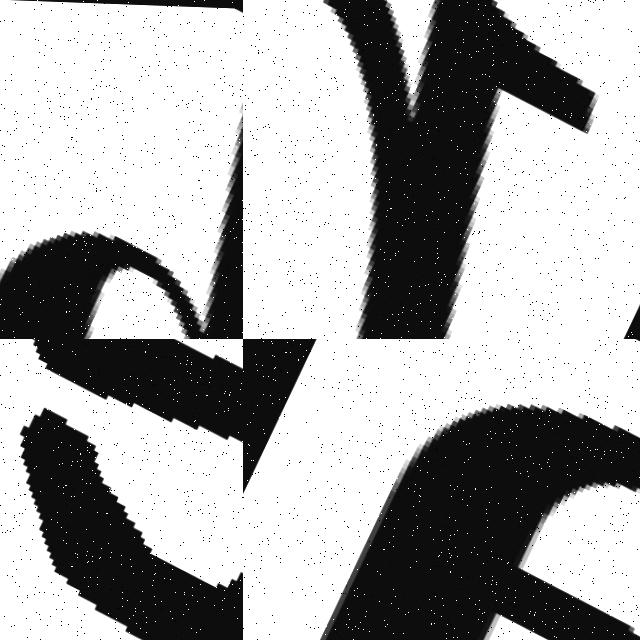A: (243, 339, 640, 640)
B: (0, 82, 243, 339)
E: (15, 407, 243, 640)
R: (243, 0, 640, 339)
